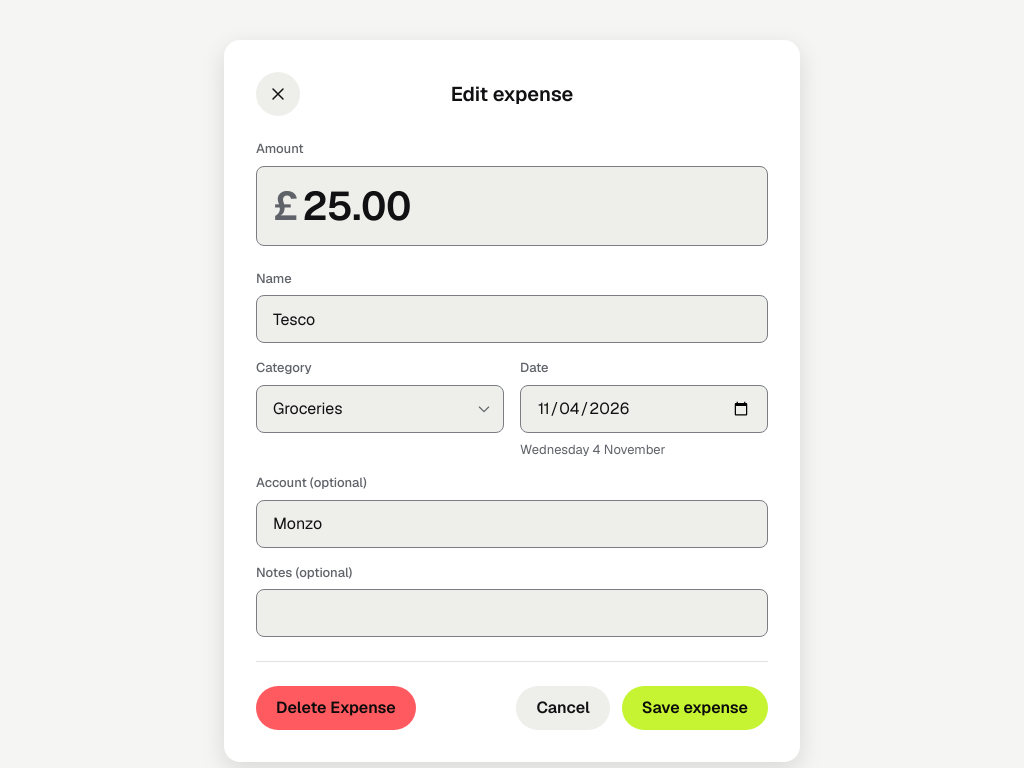
Test: ExpenseForm editing › shows "Deleting…" on Delete while deleting, leaving the Save label alone
Click the button "Delete Expense".
click(336, 708)  # box [256,686,416,730]
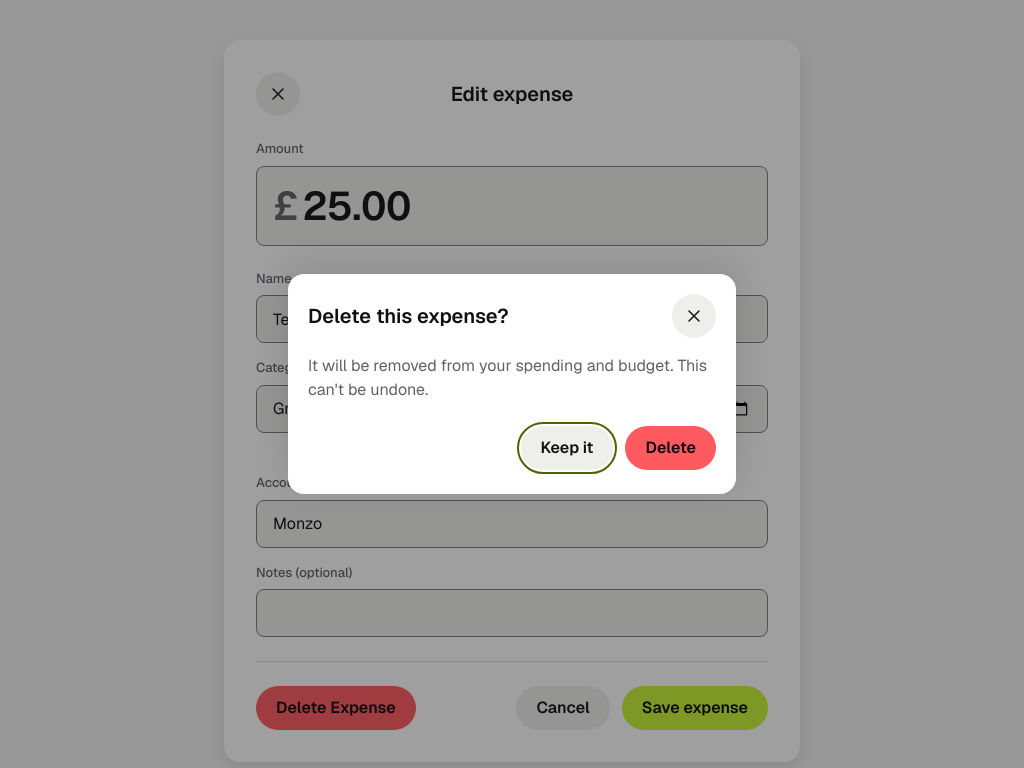
Click the button "Delete".
click(671, 448)  # box [626,426,716,470]
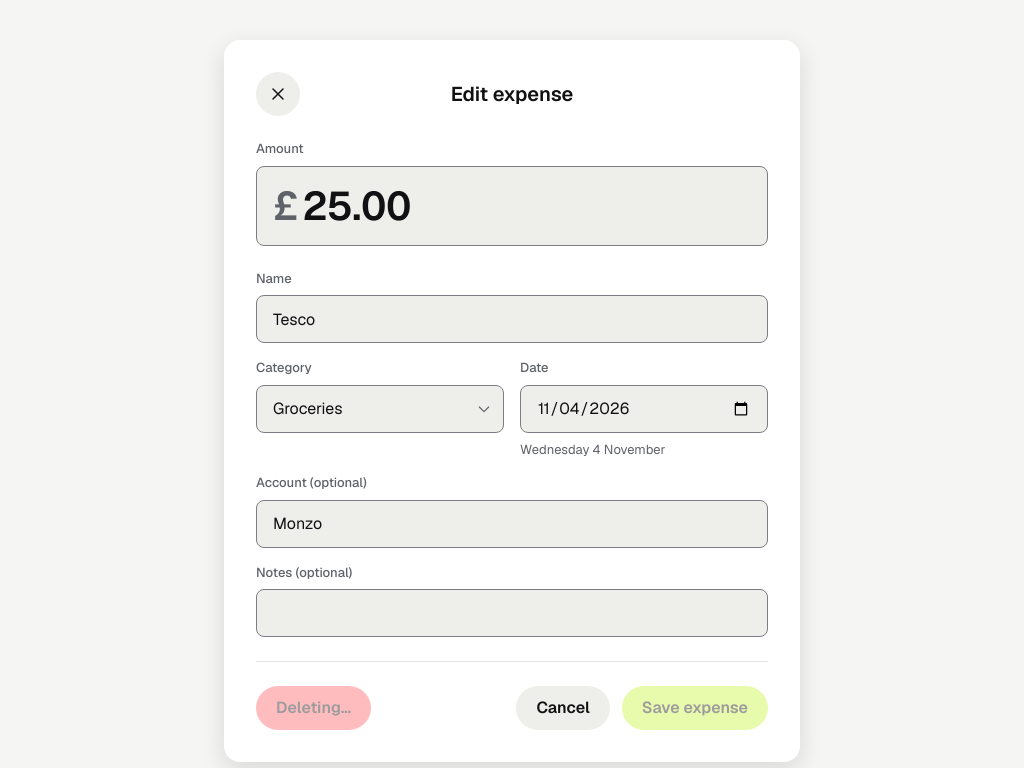
Now the button "Deleting…" is disabled, box [256,686,371,730]
Now the number of buttons "Save expense" is 2
